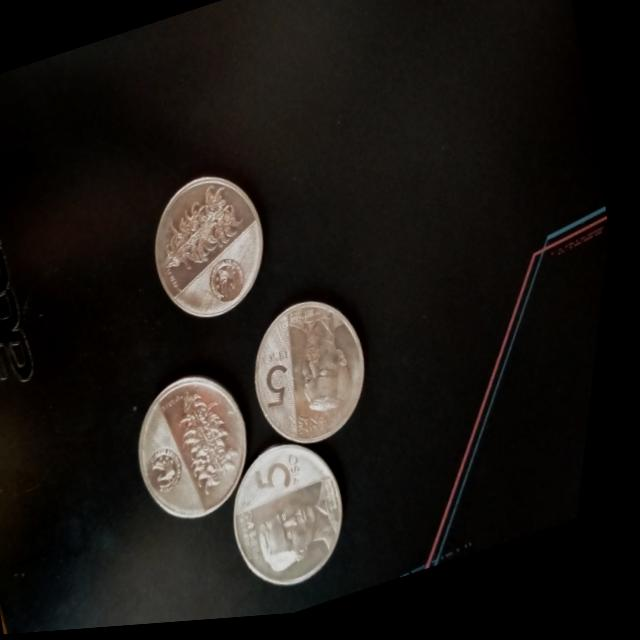5_New_Back: (167, 371, 272, 516), (144, 171, 266, 288)
5_New_Front: (253, 342, 322, 424), (249, 448, 322, 506)
